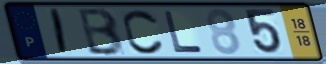5: (241, 8, 284, 56)
8: (205, 7, 244, 57)
B: (77, 6, 126, 57)
C: (121, 8, 167, 56)
I: (49, 8, 70, 57)
L: (161, 10, 205, 54)
